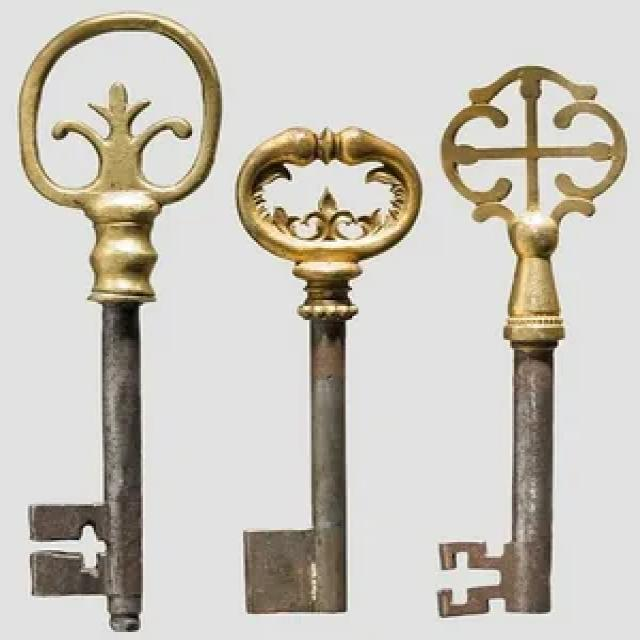key: (0, 0, 229, 640), (430, 52, 640, 635)
